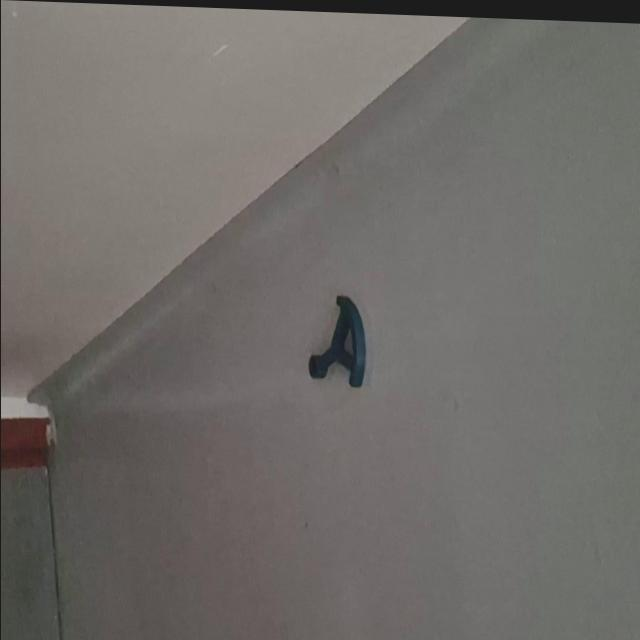haptic: (306, 292, 366, 390)
